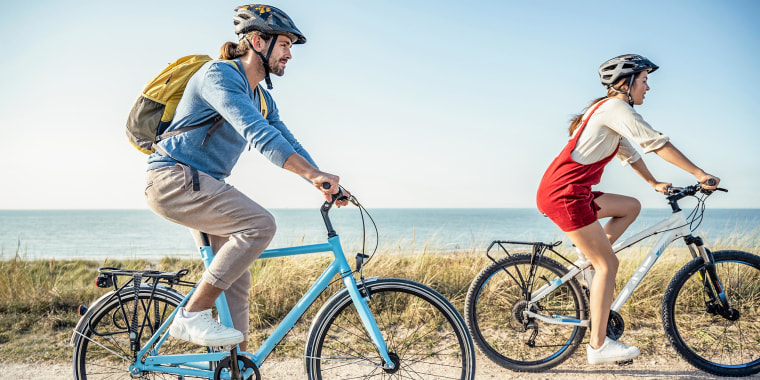helmet: (234, 5, 306, 77), (597, 53, 660, 105)
